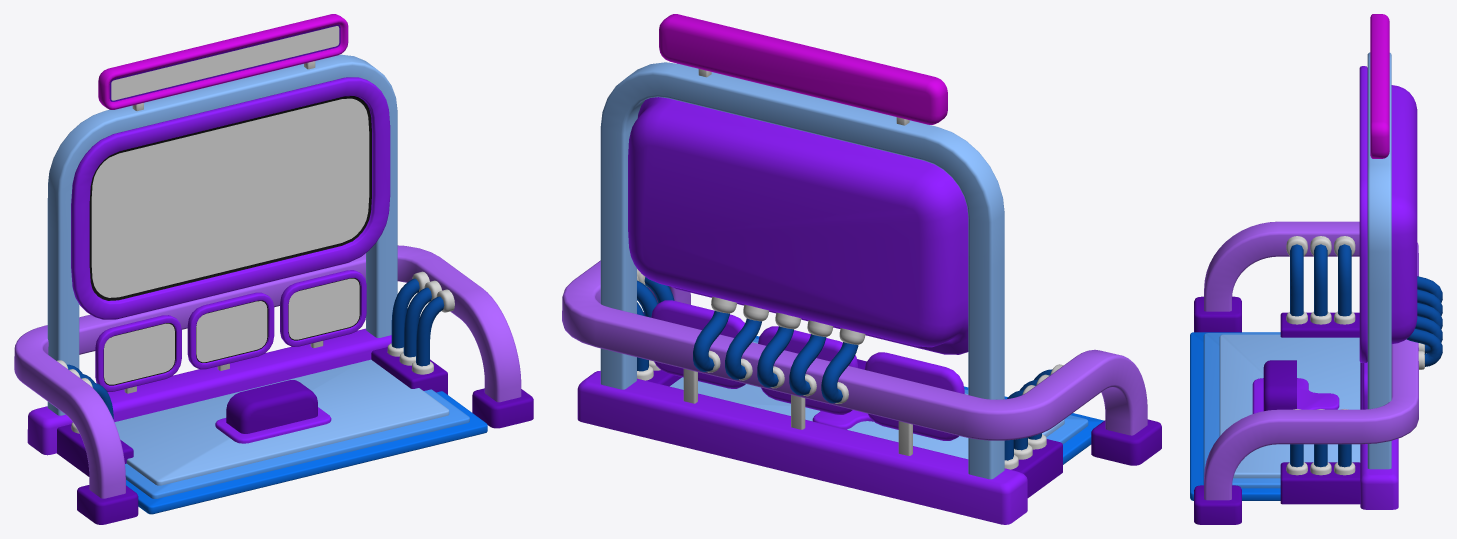
Rendered from Coming Soon Games .fbx.
The picture shows the model from 3 angles, left to right: view 1: azimuth 30°, elevation 25°; view 2: azimuth 150°, elevation 25°; view 3: azimuth 270°, elevation 25°; orthographic projection. The views are drawn at different scales.
Visible parts, largest first — view 1: Cube.036, VideoPlayer; view 2: Cube.036; view 3: Cube.036.
Part boxes in pixels (<box>): Cube.036: <box>14,14,533,524</box>; VideoPlayer: <box>91,98,369,297</box>; Cube.036: <box>562,14,1161,524</box>; Cube.036: <box>1190,14,1442,524</box>.
Bounding box in the file's own units: 337 × 265 × 173.
